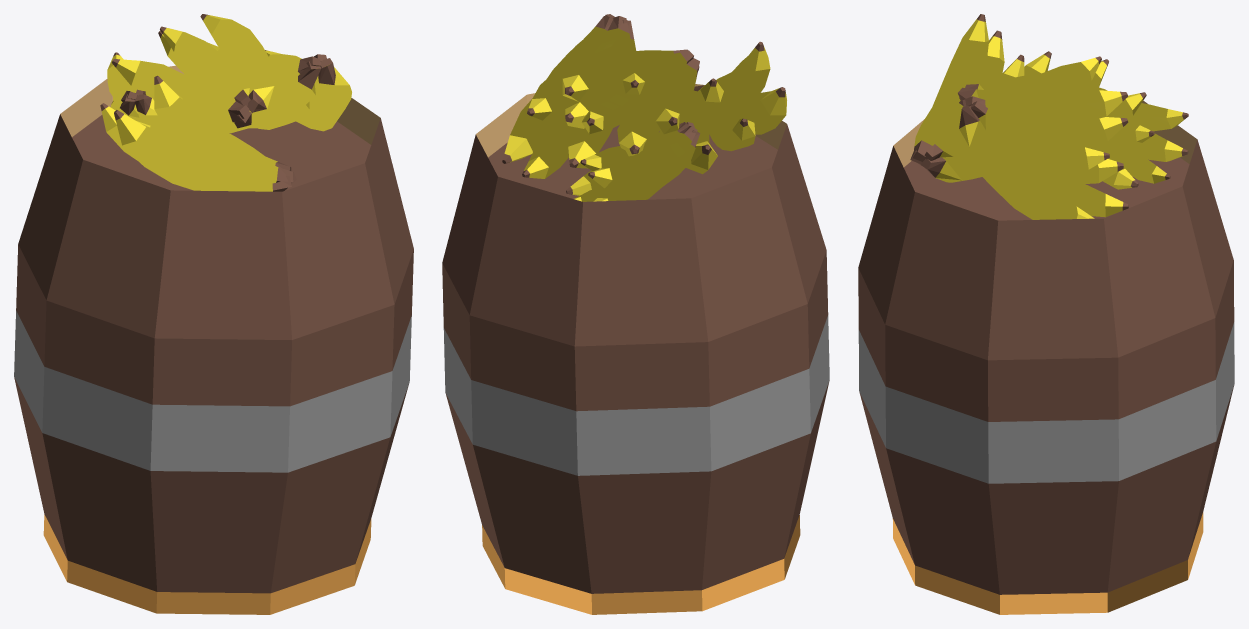
Rendered from BananasBarrel.fbx.
The picture shows the model from 3 angles, left to right: view 1: azimuth 30°, elevation 25°; view 2: azimuth 150°, elevation 25°; view 3: azimuth 270°, elevation 25°; orthographic projection. The views are drawn at different scales.
Visible parts, largest first — view 1: Node.006; view 2: Node.006; view 3: Node.006.
Boxes of the visible parts, x1,y1,x2,y2 form: Node.006: (14,14,413,614); Node.006: (442,14,829,614); Node.006: (858,14,1234,614).
Size of the model in its own units: 18.42 by 26.92 by 18.45.
